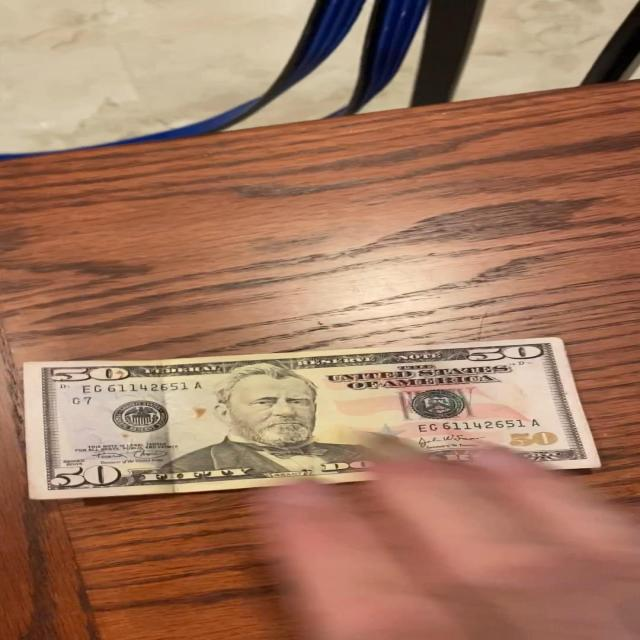50-Front: (24, 336, 610, 506)
